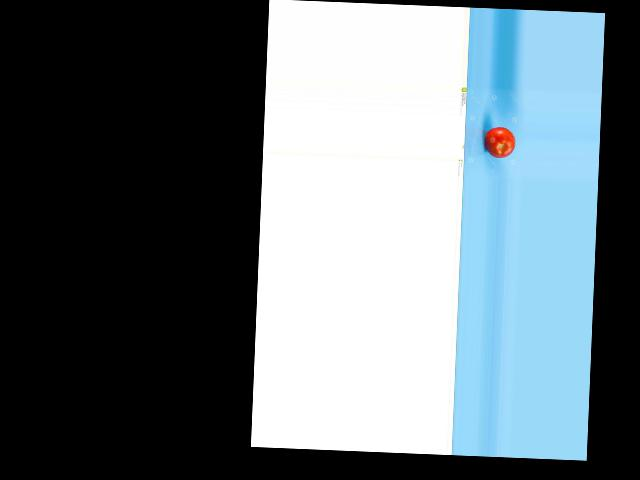tomato: (484, 126, 515, 159)
